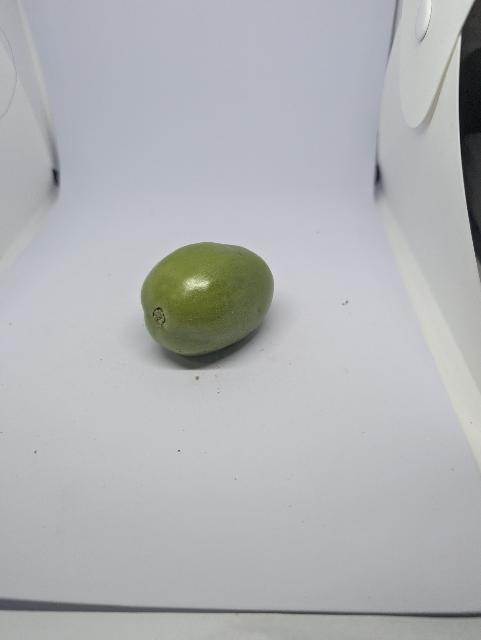green: (127, 233, 286, 372)
